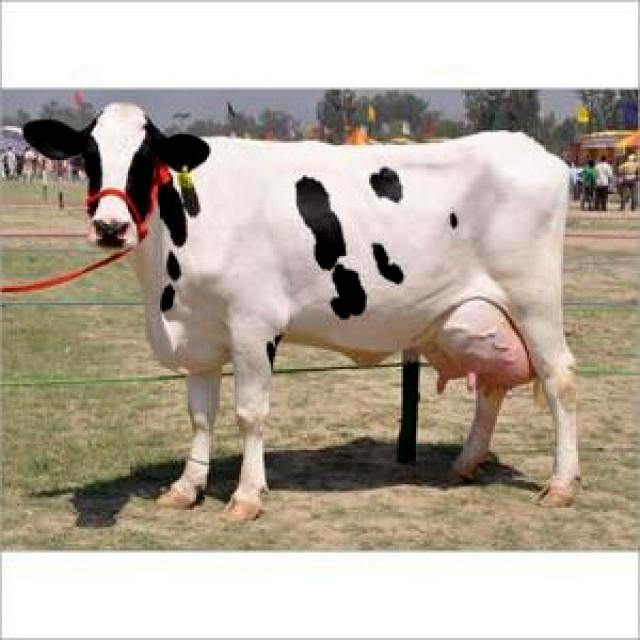COW: (25, 102, 578, 519)
